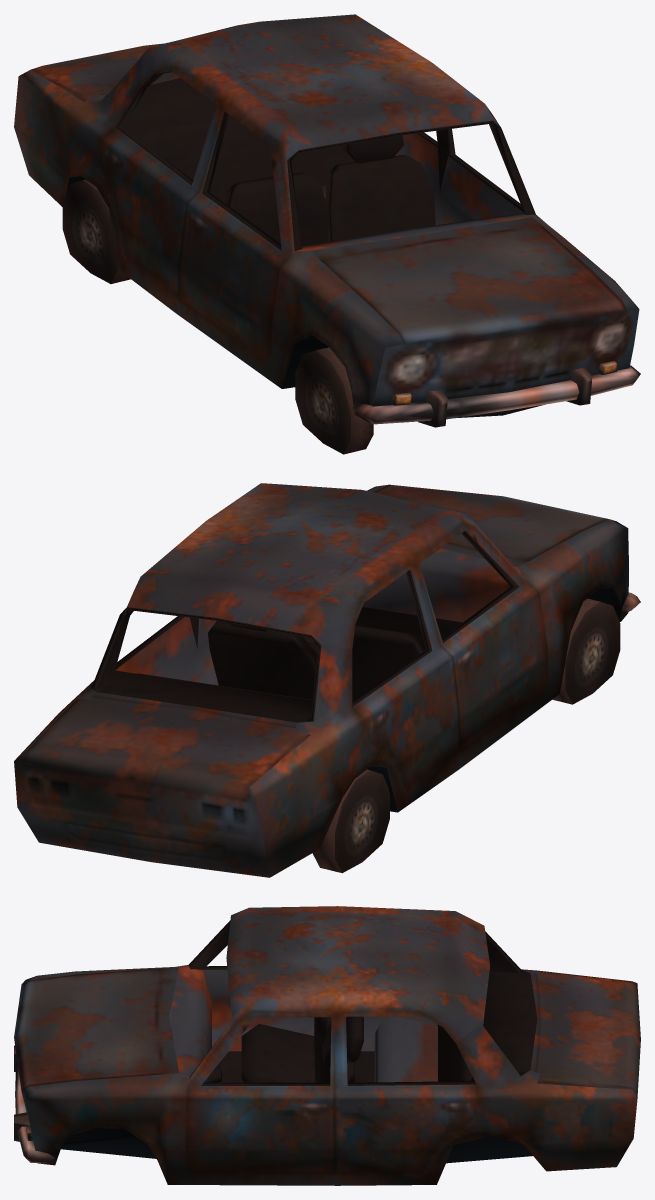
The model's file is DamageCar.fbx.
3 renders of one model, top to bottom at view 1: azimuth 30°, elevation 25°; view 2: azimuth 150°, elevation 25°; view 3: azimuth 270°, elevation 25°, orthographic. The views are drawn at different scales.
Parts seen in each view (by area): view 1: DamageCar; view 2: DamageCar; view 3: DamageCar.
Part boxes in pixels (box(x1,y1,x2,y2)): DamageCar: box(14, 14, 640, 454); DamageCar: box(14, 483, 640, 877); DamageCar: box(14, 906, 640, 1185).
Size of the model in its own units: 187 by 148 by 434.
1 material, 1 textured.
